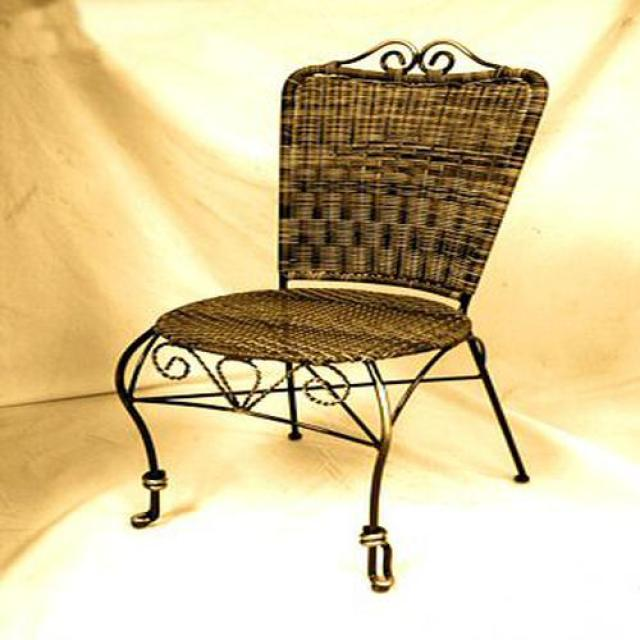chair: (113, 40, 549, 595)
